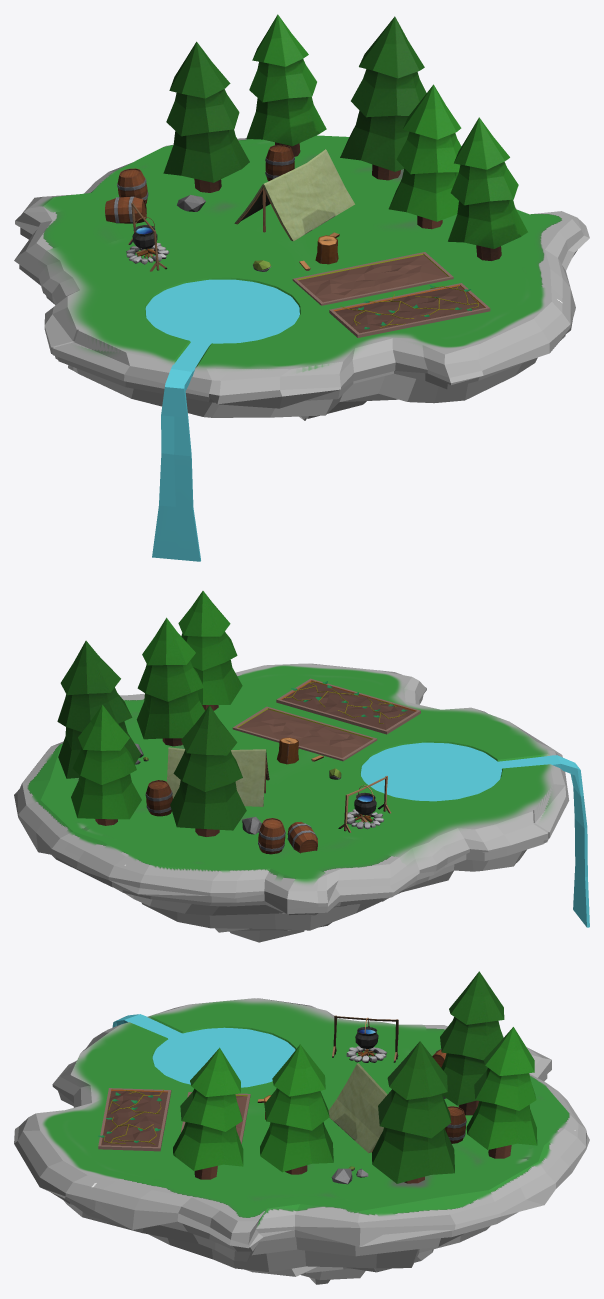
Rendered from island_empty.glb.
The picture shows the model from 3 angles, top to bottom: view 1: azimuth 30°, elevation 25°; view 2: azimuth 150°, elevation 25°; view 3: azimuth 270°, elevation 25°; orthographic projection. The views are drawn at different scales.
Visible parts, largest first — view 1: Cube.002, Cube, Cube.001, Object001.001_Object001_mtl_0, Object001.001_Object001_mtl_0.003, Object001.001_Object001_mtl_0.001, Object001.001_Object001_mtl_0.002, Object001.001_Object001_mtl_0.004, Object001.002_Object001_mtl_0, Cube.009_Cube.004, Cube.010_Cube.024, Object001.004_Object001_mtl_0 (+1 smaller); view 2: Cube.002, Cube, Cube.001, Object001.001_Object001_mtl_0, Object001.001_Object001_mtl_0.002, Object001.001_Object001_mtl_0.004, Object001.001_Object001_mtl_0.003, Object001.001_Object001_mtl_0.001, Cube.009_Cube.004, Cube.010_Cube.024, Object001.004_Object001_mtl_0, Object001.002_Object001_mtl_0 (+3 smaller); view 3: Cube.002, Cube.001, Object001.001_Object001_mtl_0.003, Object001.001_Object001_mtl_0.002, Cube, Object001.001_Object001_mtl_0.001, Object001.001_Object001_mtl_0.004, Object001.001_Object001_mtl_0, Cube.009_Cube.004, Object001.002_Object001_mtl_0, Object001_Object001_mtl_0, Object001.004_Object001_mtl_0 (+1 smaller).
Part boxes in pixels (bbox=[...]): Cube.002: bbox=[14, 135, 589, 408]; Cube: bbox=[145, 279, 299, 561]; Cube.001: bbox=[19, 227, 577, 420]; Object001.001_Object001_mtl_0: bbox=[163, 41, 249, 192]; Object001.001_Object001_mtl_0.003: bbox=[340, 16, 426, 180]; Object001.001_Object001_mtl_0.001: bbox=[448, 117, 527, 260]; Object001.001_Object001_mtl_0.002: bbox=[388, 84, 461, 229]; Object001.001_Object001_mtl_0.004: bbox=[246, 14, 326, 156]; Object001.002_Object001_mtl_0: bbox=[234, 149, 354, 241]; Cube.009_Cube.004: bbox=[329, 283, 490, 337]; Cube.010_Cube.024: bbox=[292, 252, 453, 305]; Object001.004_Object001_mtl_0: bbox=[105, 145, 294, 223]; Cube.002: bbox=[14, 663, 569, 908]; Cube: bbox=[361, 742, 589, 927]; Cube.001: bbox=[52, 695, 548, 942]; Object001.001_Object001_mtl_0: bbox=[170, 705, 246, 836]; Object001.001_Object001_mtl_0.002: bbox=[136, 617, 204, 746]; Object001.001_Object001_mtl_0.004: bbox=[71, 705, 141, 825]; Object001.001_Object001_mtl_0.003: bbox=[57, 640, 140, 778]; Object001.001_Object001_mtl_0.001: bbox=[178, 591, 242, 710]; Cube.009_Cube.004: bbox=[276, 678, 420, 734]; Cube.010_Cube.024: bbox=[232, 706, 377, 761]; Object001.004_Object001_mtl_0: bbox=[145, 780, 317, 854]; Object001.002_Object001_mtl_0: bbox=[167, 747, 269, 806]; Cube.002: bbox=[14, 998, 589, 1248]; Cube.001: bbox=[51, 1074, 547, 1284]; Object001.001_Object001_mtl_0.003: bbox=[372, 1041, 454, 1183]; Object001.001_Object001_mtl_0.002: bbox=[260, 1044, 333, 1174]; Cube: bbox=[112, 1014, 295, 1087]; Object001.001_Object001_mtl_0.001: bbox=[173, 1047, 243, 1179]; Object001.001_Object001_mtl_0.004: bbox=[466, 1027, 537, 1158]; Object001.001_Object001_mtl_0: bbox=[440, 971, 504, 1115]; Cube.009_Cube.004: bbox=[98, 1088, 171, 1151]; Object001.002_Object001_mtl_0: bbox=[328, 1063, 387, 1153]; Object001_Object001_mtl_0: bbox=[332, 1015, 398, 1062]; Object001.004_Object001_mtl_0: bbox=[432, 1049, 466, 1143].
Bounding box in the file's own units: 5248 × 3158 × 5283.
Materials: 6 (4 with a texture image).
